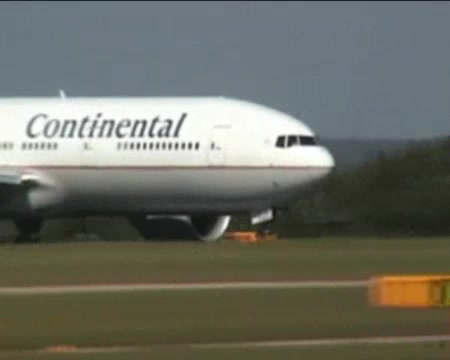aeroplane: (2, 88, 337, 245)
